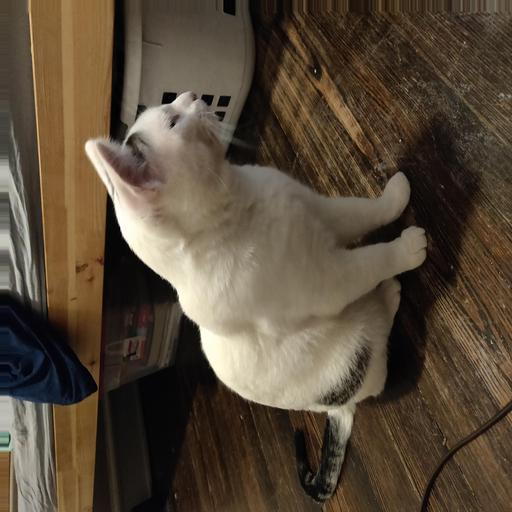cat: (88, 83, 378, 373)
